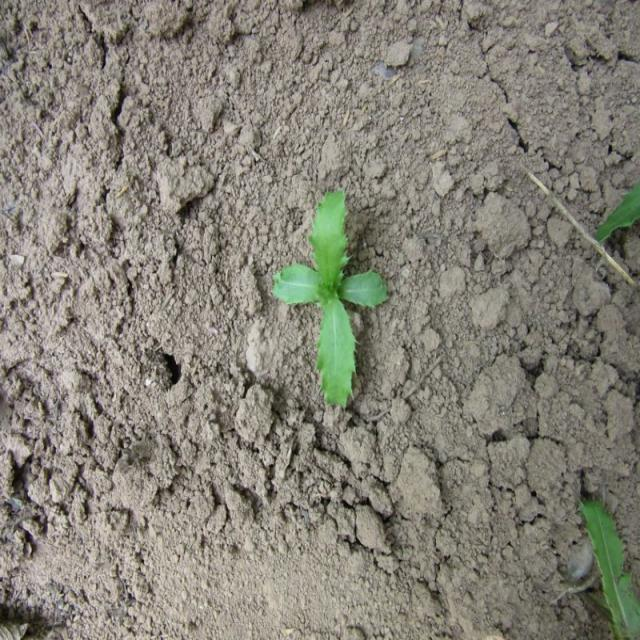field_thistle: (245, 154, 392, 406)
